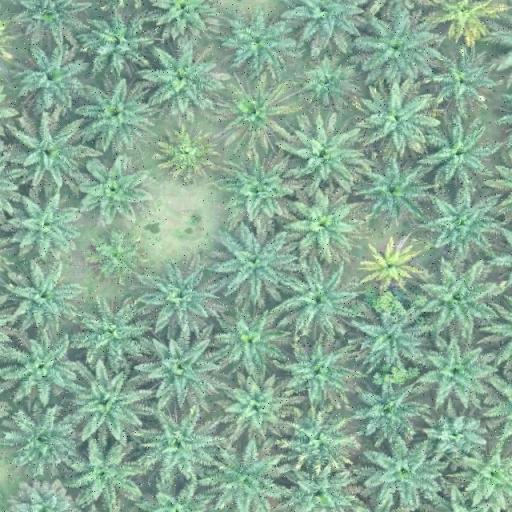Ganoderma: (166, 134, 210, 174), (370, 248, 410, 283)
